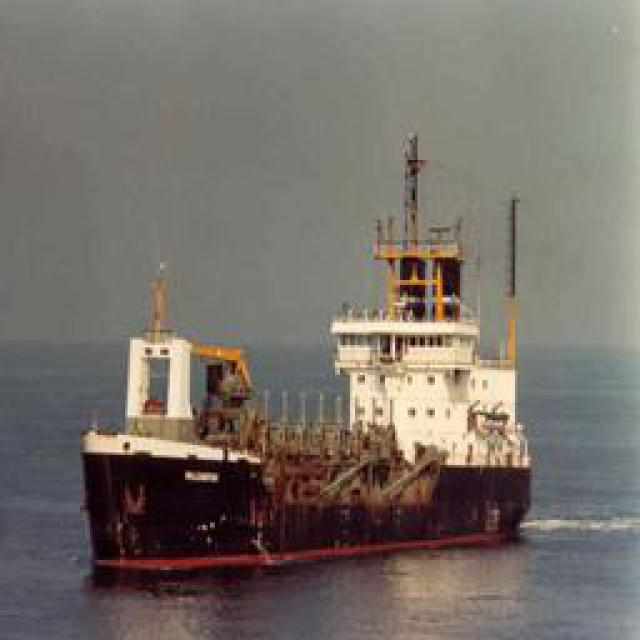Ship: (79, 214, 539, 584)
